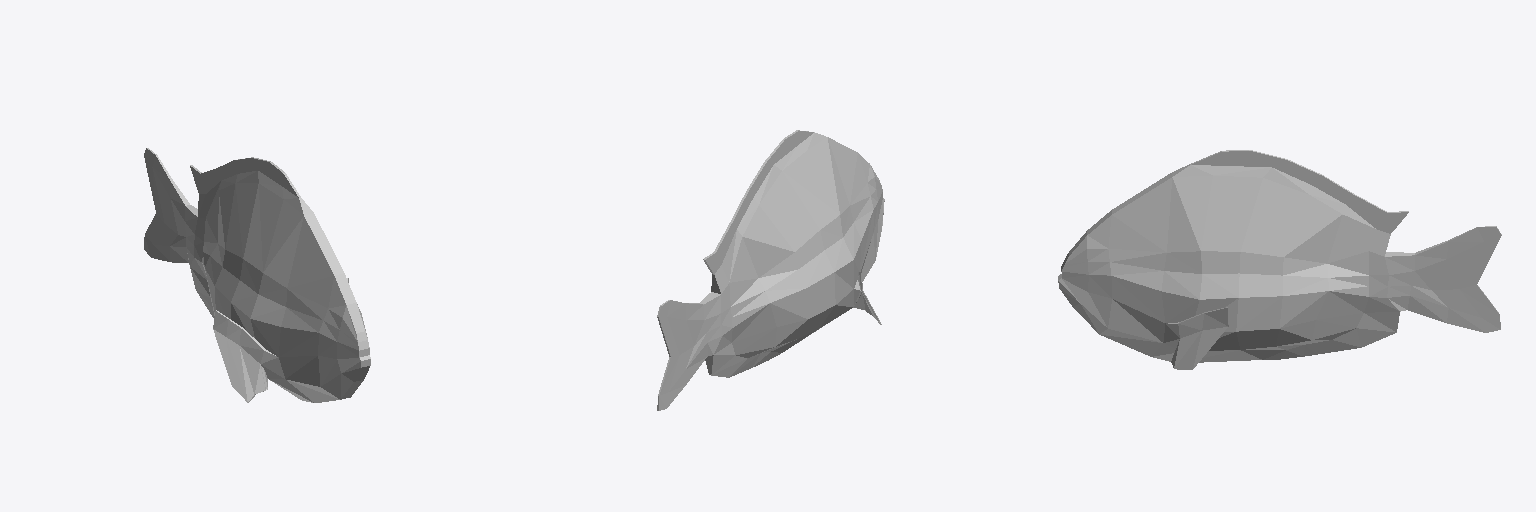
Rendered from fish13.obj.
The picture shows the model from 3 angles: view 1: azimuth 30°, elevation 25°; view 2: azimuth 150°, elevation 25°; view 3: azimuth 270°, elevation 25°; orthographic projection.
Visible parts, largest first — view 1: TropicalFish13:TropicalFish13; view 2: TropicalFish13:TropicalFish13; view 3: TropicalFish13:TropicalFish13.
Part boxes in pixels (bbox=[...]): TropicalFish13:TropicalFish13: bbox=[144, 148, 370, 402]; TropicalFish13:TropicalFish13: bbox=[657, 130, 884, 410]; TropicalFish13:TropicalFish13: bbox=[1058, 150, 1501, 369].
Size of the model in its own units: 2.83 by 4.15 by 7.9.